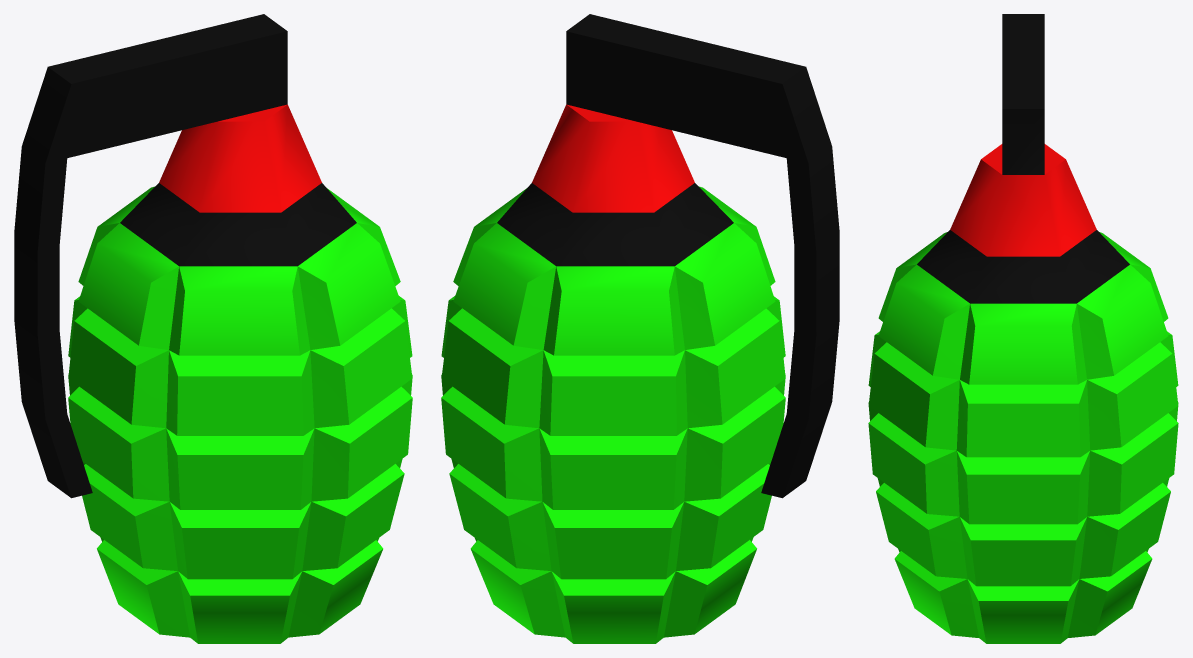
The model's file is Grenade.FBX.
The picture shows the model from 3 angles, left to right: view 1: azimuth 30°, elevation 25°; view 2: azimuth 150°, elevation 25°; view 3: azimuth 270°, elevation 25°; orthographic projection. The views are drawn at different scales.
Parts seen in each view (by area): view 1: Grenade; view 2: Grenade; view 3: Grenade.
Part boxes in pixels (box(x1,y1,x2,y2)): Grenade: box(14, 14, 412, 643); Grenade: box(441, 14, 839, 643); Grenade: box(868, 14, 1178, 643).
Size of the model in its own units: 14.9 by 23.57 by 12.52.
